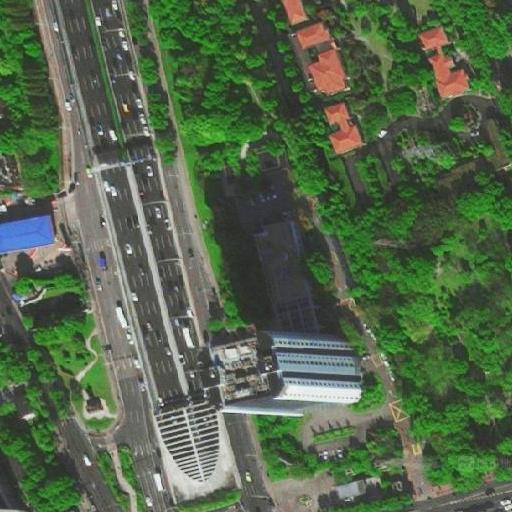building: (250, 216, 322, 342), (264, 349, 372, 418), (431, 146, 489, 192), (1, 217, 63, 256), (423, 35, 468, 87), (325, 102, 365, 153), (308, 53, 351, 99), (477, 110, 510, 162), (293, 20, 334, 50), (0, 475, 30, 512), (332, 471, 371, 498)
